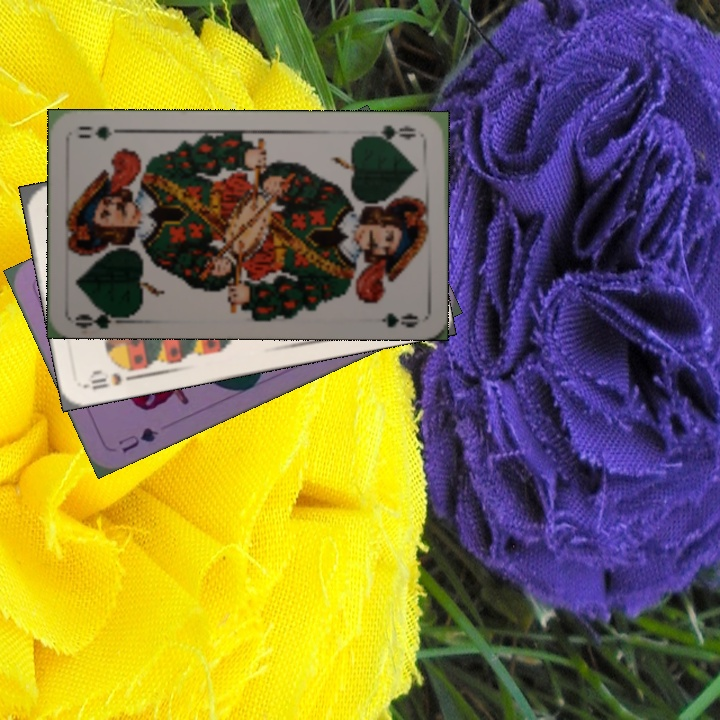GO: (72, 303, 131, 330), (363, 121, 419, 145)
GU: (114, 423, 161, 455)
S10: (83, 362, 142, 393)
